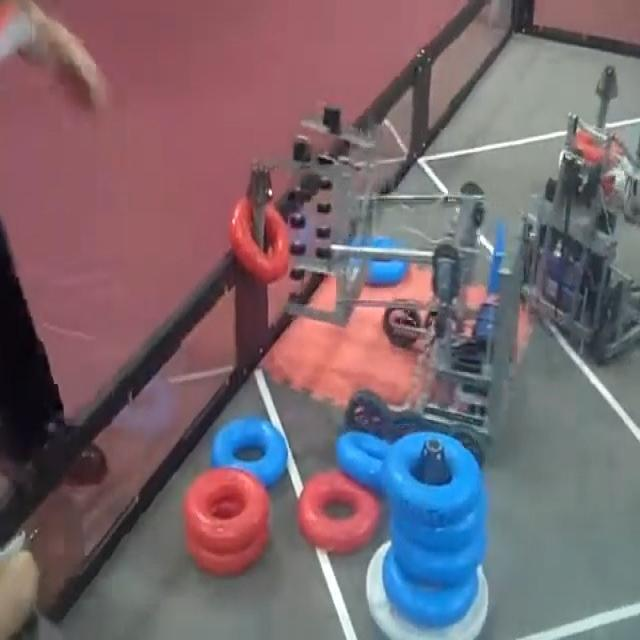Blue-Ring: (385, 433, 482, 526), (384, 548, 476, 626), (392, 523, 486, 584), (391, 492, 485, 550), (213, 417, 288, 487), (336, 432, 390, 491), (350, 236, 409, 290)
Red-Ring: (185, 468, 269, 552), (298, 470, 380, 552), (229, 197, 288, 283), (186, 532, 268, 575)
